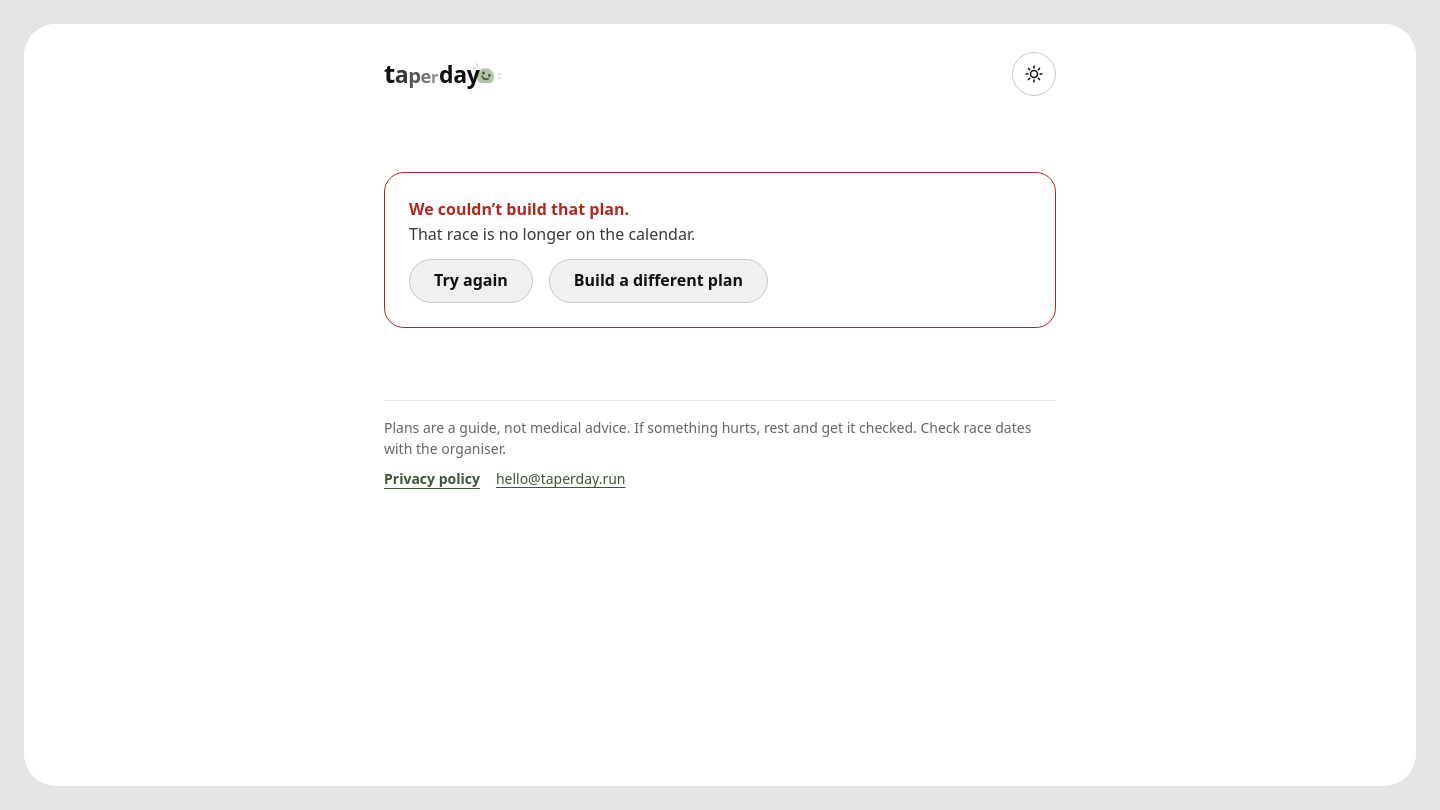
Scenario: dead ends › a plan that can’t be built still offers a way to build a different one
Click the button "Build a different plan" at (658, 281), box [549,259,768,303]
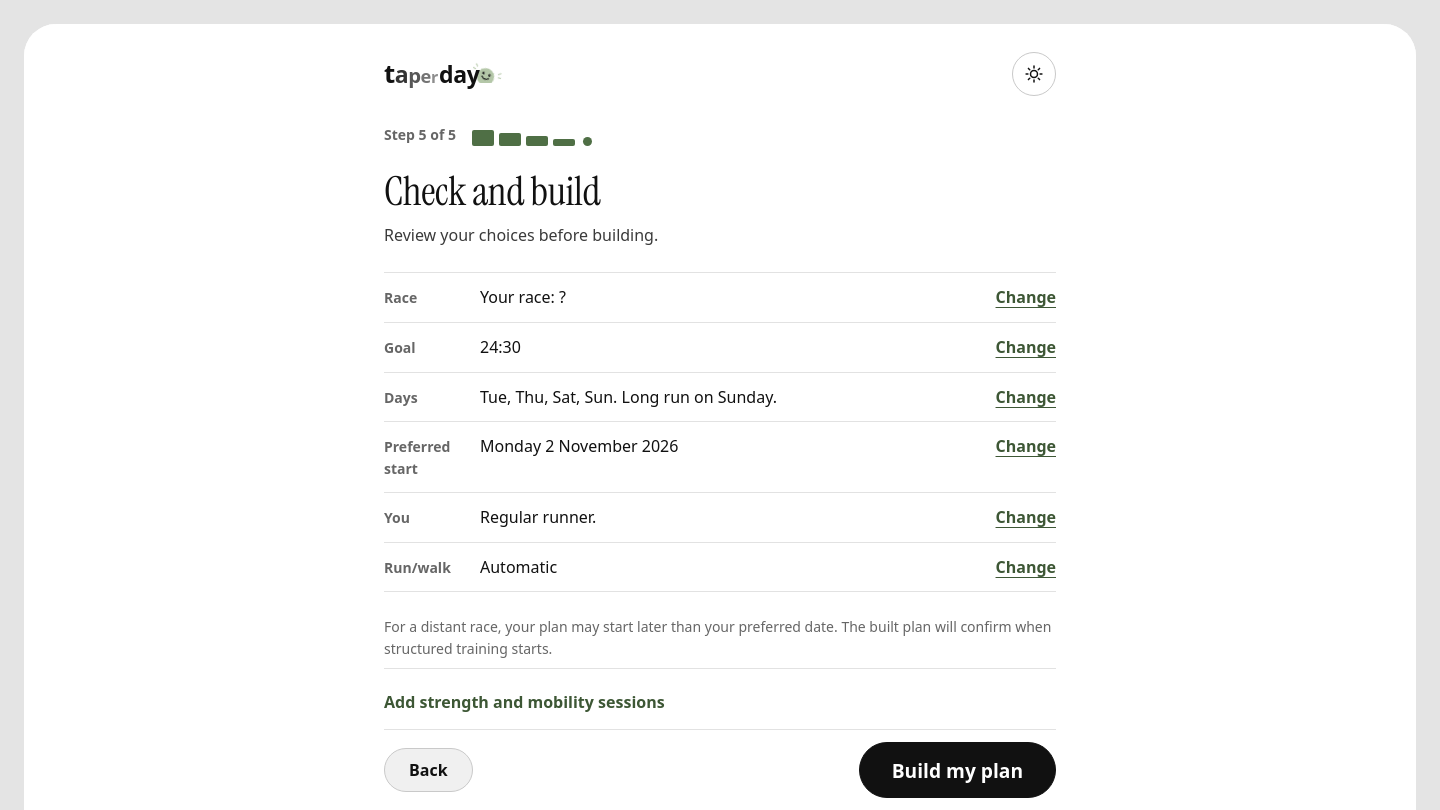
Expected: the text "We couldn’t build that plan." is gone
